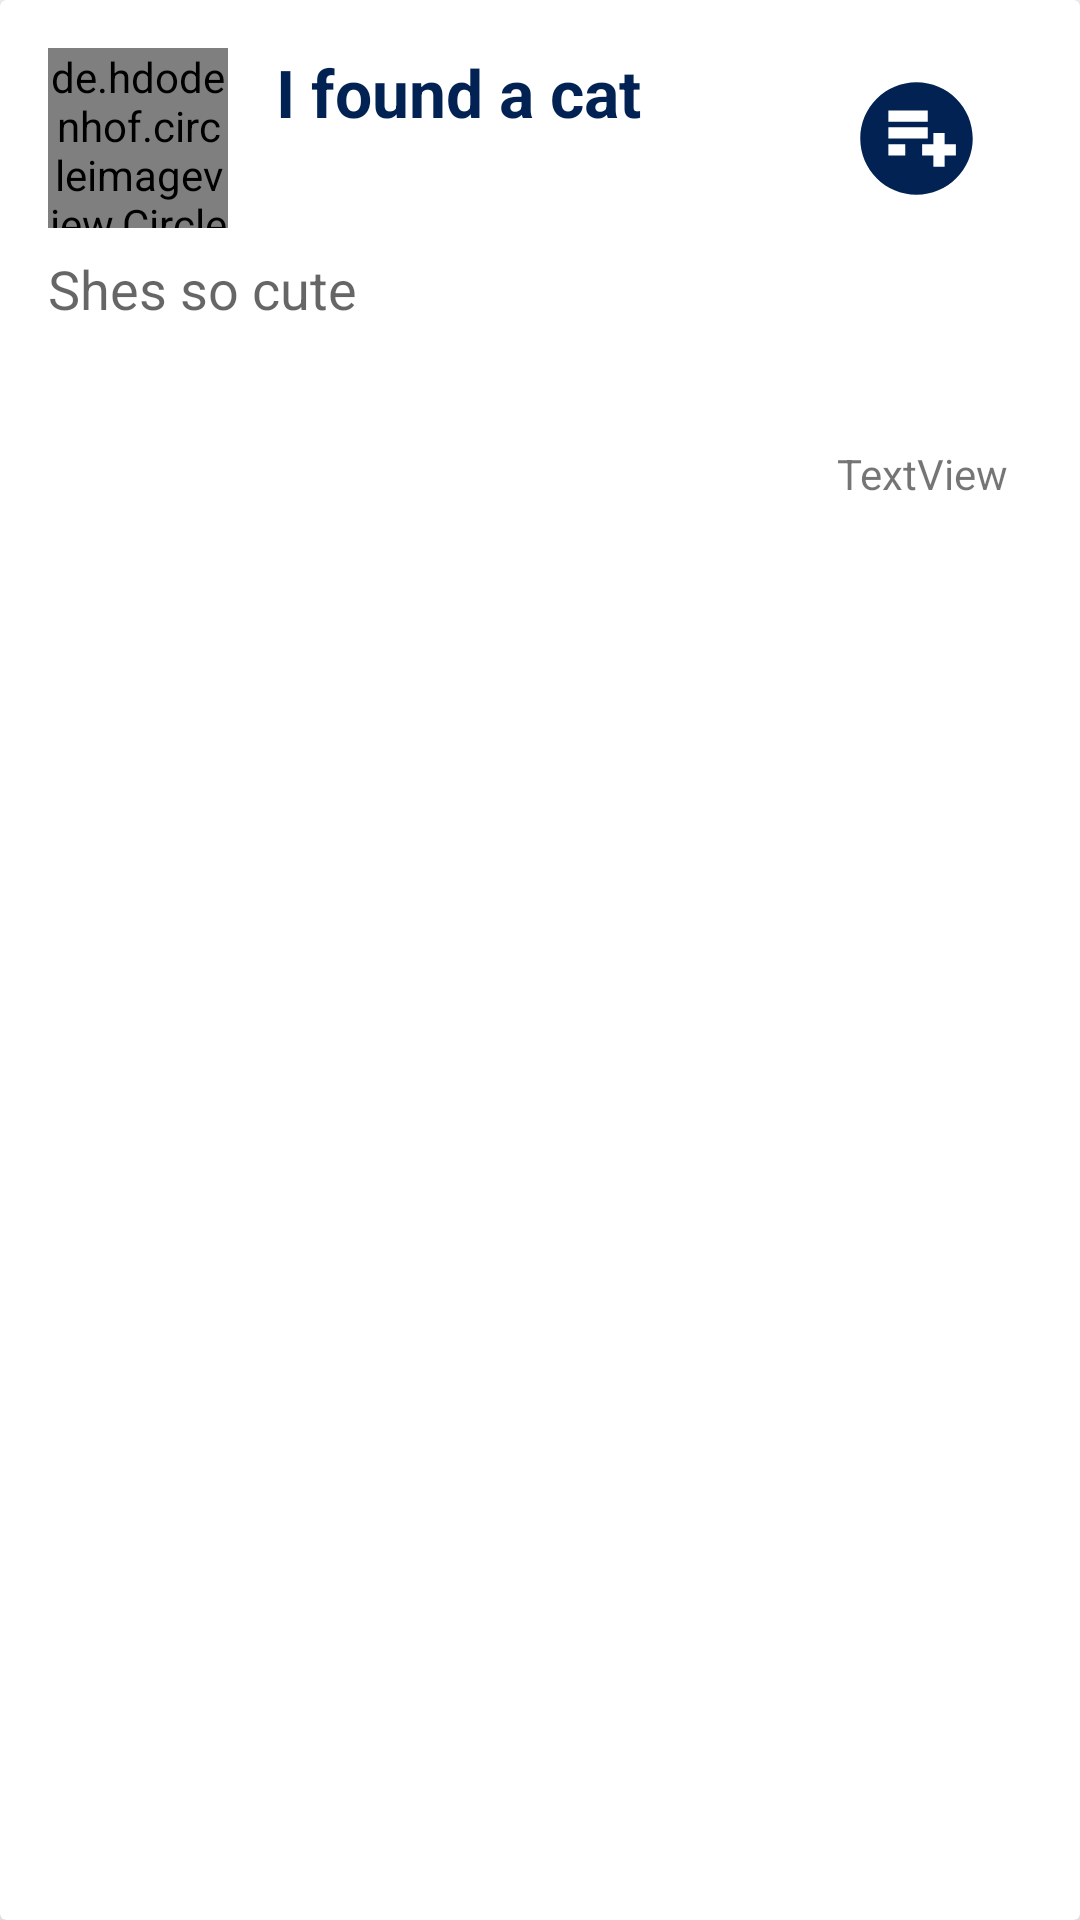

Icon bounding boxes for this 1080*1920 phone screenshot, format rect(x1, y1, x2, y2):
playlist add circle: rect(860, 82, 973, 195)
